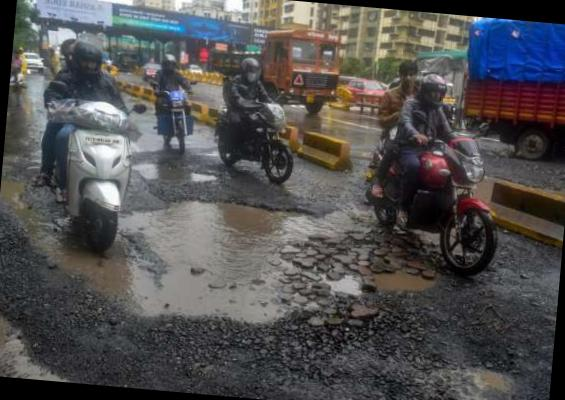pothole: (94, 178, 366, 358), (330, 246, 442, 312), (442, 345, 539, 400), (124, 148, 219, 196)
